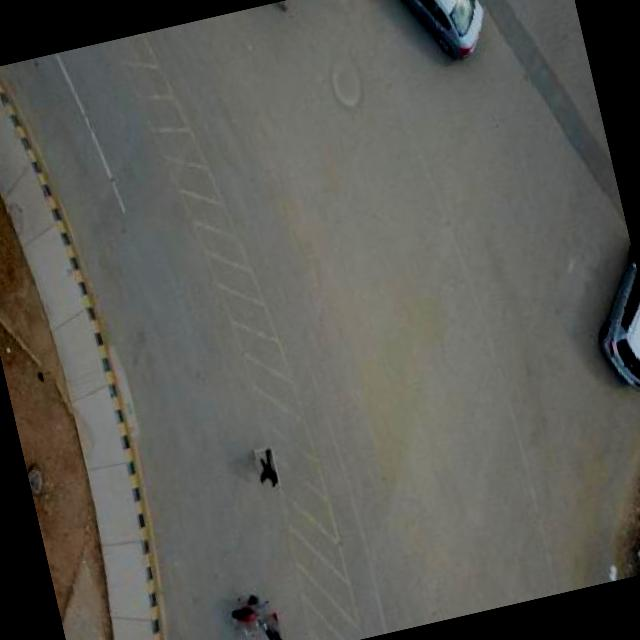Person: (232, 596, 270, 635), (252, 446, 281, 491), (254, 613, 285, 640)
